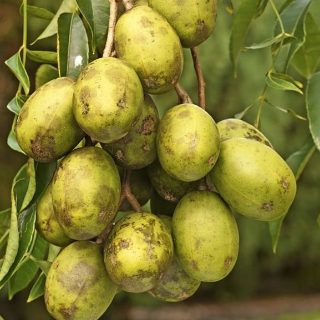coc: (52, 145, 121, 239), (172, 190, 240, 282), (73, 55, 142, 145), (103, 210, 172, 294), (155, 102, 220, 182)
